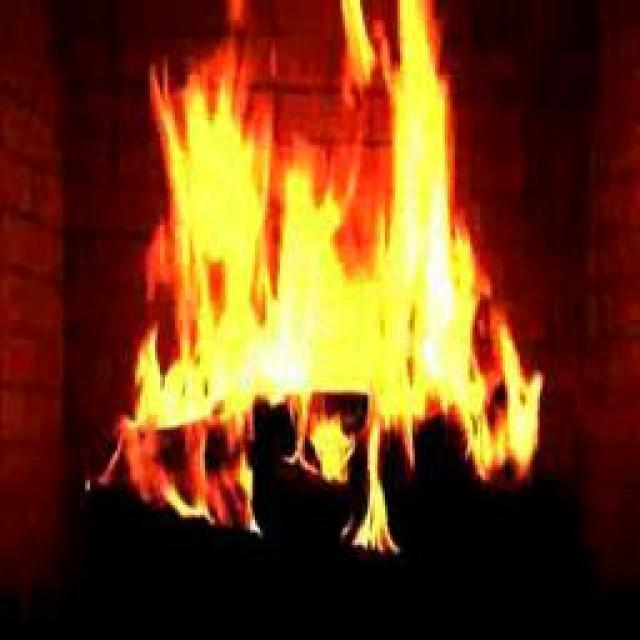fire: (92, 0, 552, 548)
